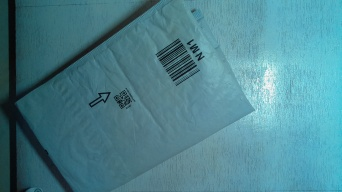a: (12, 3, 260, 188)
